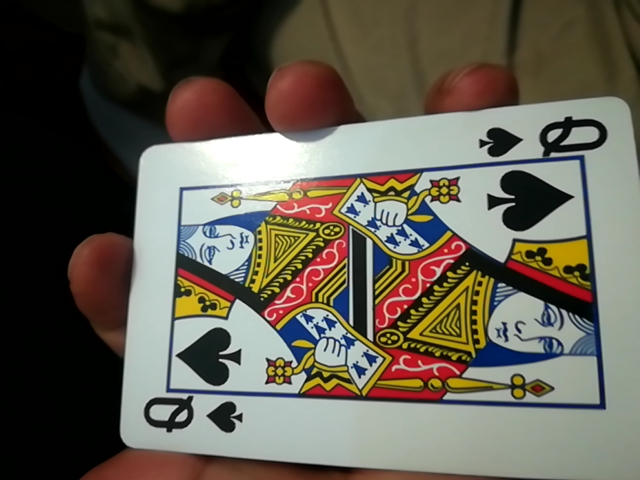ht q: (105, 99, 632, 480)
